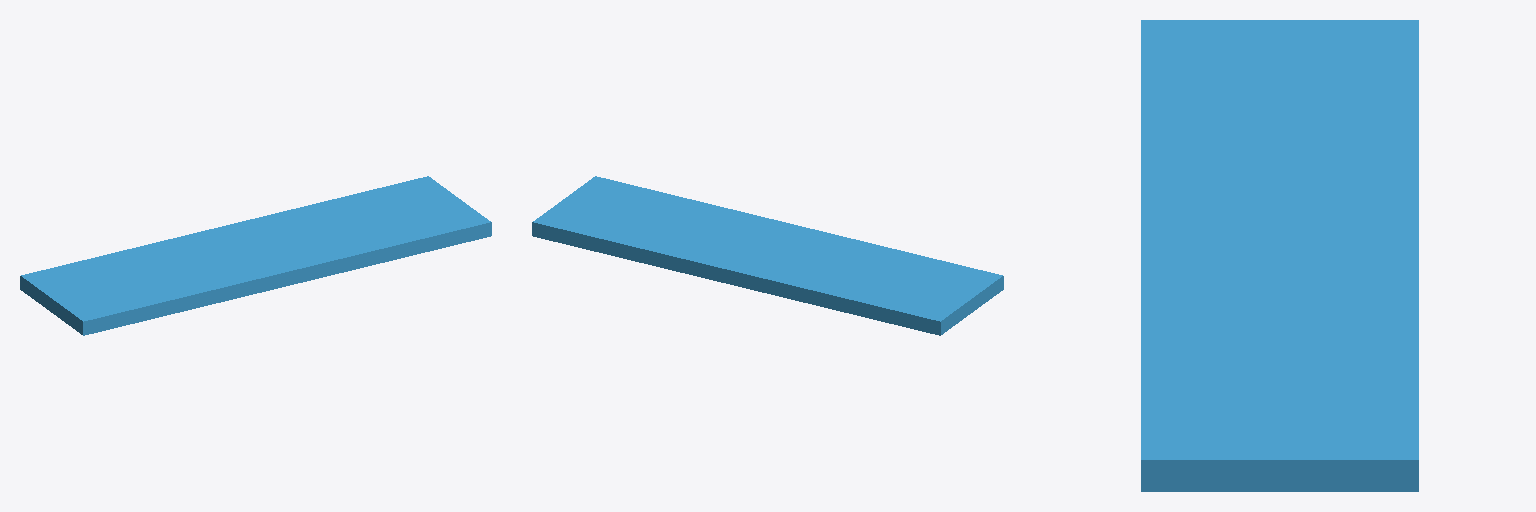
The robot description file, URDF, robot "cylinder_94":
    
    <robot name="cylinder_94">
        <link name="cylinder_94">    
            <fem>
                <origin rpy="0.0 0.0 0.0" xyz="0 0 0" />
                <density value="100" />
                <youngs value="1325"/>
                <poissons value="0.3" />
                <damping value="0.0" />
                <attachDistance value="0.01" />
                <tetmesh filename="[local-path]/sim_data/Custom/Custom_mesh/multi_cylinder_1kPa/cylinder_94.tet" />
                <scale value="0.5"/>
            </fem>
        </link>

        <link name="fix_frame">
            <visual>
                <origin xyz="0.0 0.0 10.07969715267798"/>
                <geometry>
                    <box size="0.15 0.040105502469539304 0.005"/>
                </geometry>
            </visual>
            <collision>
                <origin xyz="0.0 0.0 0.07969715267798011"/>
                <geometry>
                    <box size="0.15 0.040105502469539304 0.005"/>
                </geometry>
            </collision>
            <inertial>
                <mass value="500000"/>
                <inertia ixx="0.05" ixy="0.0" ixz="0.0" iyy="0.05" iyz="0.0" izz="0.05"/>
            </inertial>
        </link>
        
        <joint name = "attach" type = "fixed">
            <origin xyz = "0.0 0.0 0.0" rpy = "0 0 0"/>
            <parent link ="cylinder_94"/>
            <child link = "fix_frame"/>
        </joint>  




    </robot>
    

--- What the picture shows (computed from the rendered views, not written in the file) ---
The picture shows the robot from 3 angles, left to right: view 1: azimuth 30°, elevation 25°; view 2: azimuth 150°, elevation 25°; view 3: azimuth 270°, elevation 25°; orthographic projection.
Robot: cylinder_94 — 2 links, 1 joints (1 fixed); root link cylinder_94; default pose: all joints at 0.
Visible links, largest first — view 1: fix_frame; view 2: fix_frame; view 3: fix_frame.
Link boxes in pixels (box(x1,y1,x2,y2)): fix_frame: box(20, 176, 491, 335); fix_frame: box(532, 176, 1003, 335); fix_frame: box(1141, 20, 1418, 491).
Size in the robot's own frame: 0.15 by 0.0401 by 0.005 metres.
Geometry: primitives only (box / cylinder / sphere), no mesh files.
